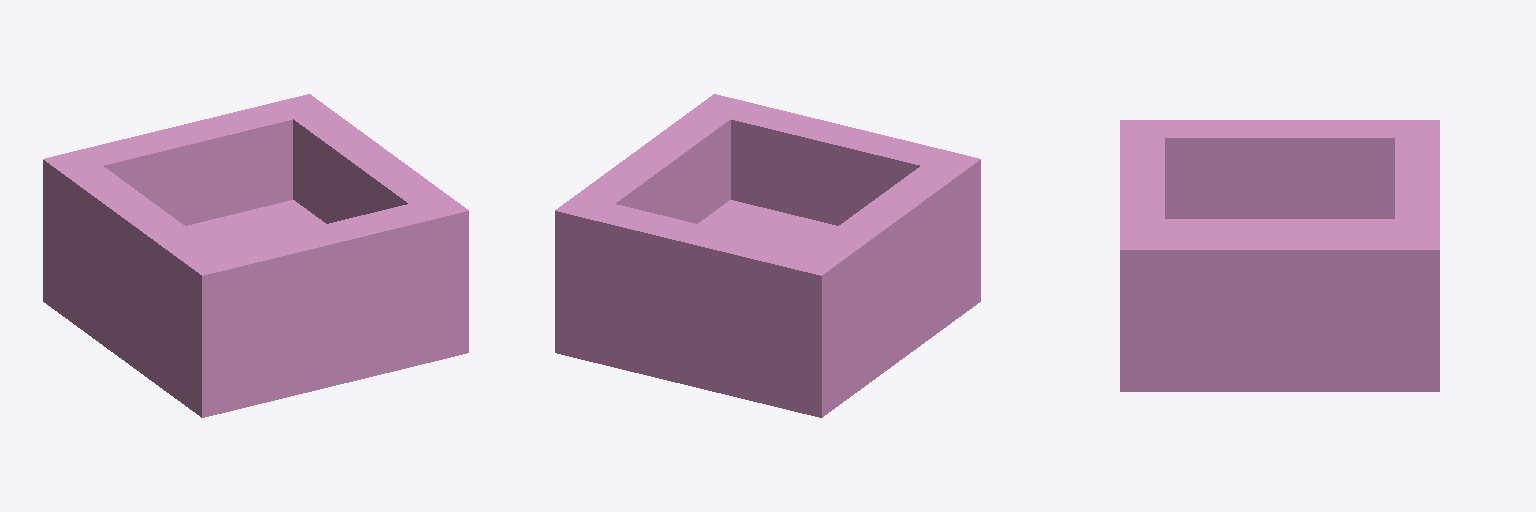
File: Cajita.obj
The picture shows the model from 3 angles: view 1: azimuth 30°, elevation 25°; view 2: azimuth 150°, elevation 25°; view 3: azimuth 270°, elevation 25°; orthographic projection.
Visible parts, largest first — view 1: Cajita; view 2: Cajita; view 3: Cajita.
Part boxes in pixels (x1,y1,x2,y2): Cajita: (43,94,468,417); Cajita: (555,94,980,417); Cajita: (1120,120,1439,391).
Size of the model in its own units: 7.33 by 3.73 by 7.59.